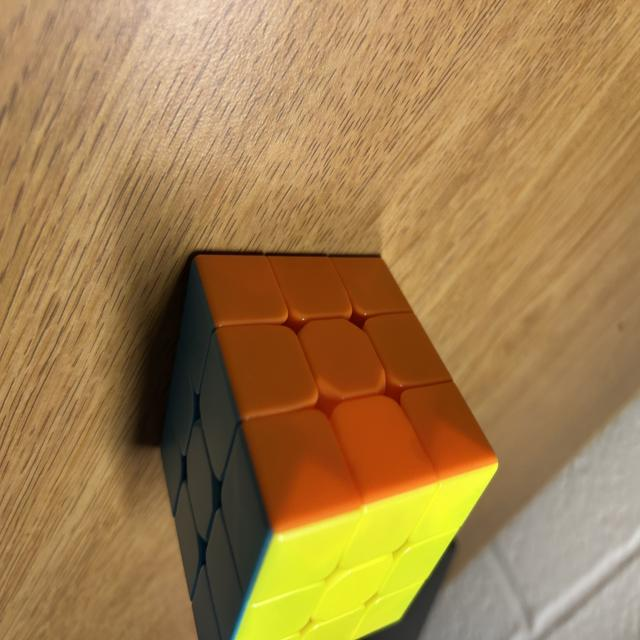Rubiks Cube: (156, 254, 499, 640)
